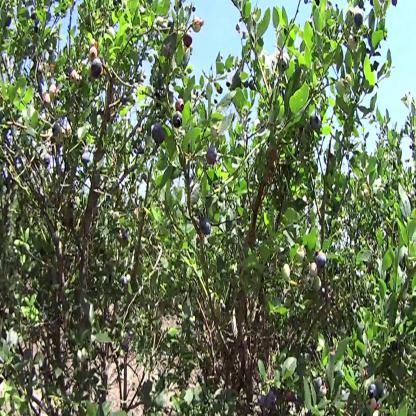intermediate: (71, 70, 83, 86), (194, 16, 205, 33), (367, 398, 378, 412), (89, 46, 99, 61), (50, 84, 59, 100), (45, 94, 51, 109)
mature: (153, 123, 166, 145), (311, 112, 322, 132), (173, 111, 184, 130), (201, 217, 212, 236), (266, 390, 276, 410), (92, 59, 102, 78), (206, 148, 217, 165), (279, 57, 289, 74), (317, 253, 328, 268), (177, 99, 186, 115), (356, 12, 365, 28), (184, 35, 193, 49), (53, 122, 61, 137), (370, 383, 378, 398), (316, 377, 323, 393), (259, 396, 268, 408), (44, 154, 52, 166)
young: (307, 264, 322, 290), (348, 34, 358, 54), (337, 77, 348, 95), (296, 247, 306, 263), (282, 264, 291, 280), (346, 74, 354, 90), (321, 385, 329, 398), (212, 125, 219, 138), (365, 189, 370, 198)
